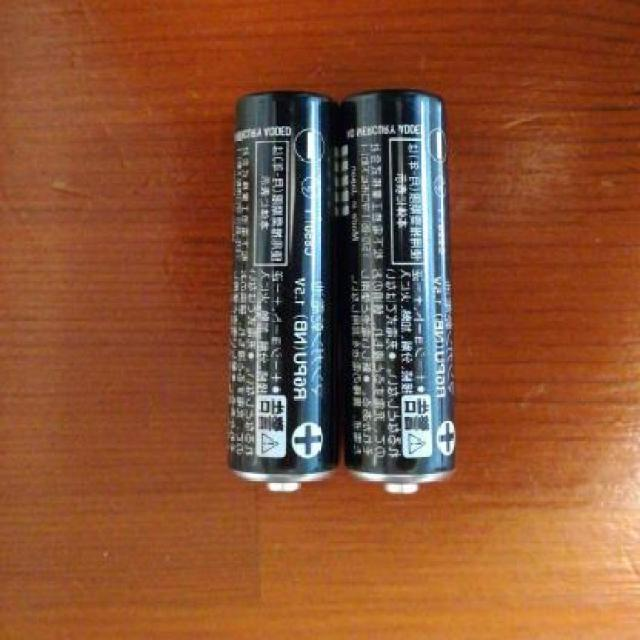AA: (334, 77, 463, 500), (217, 77, 343, 500)
